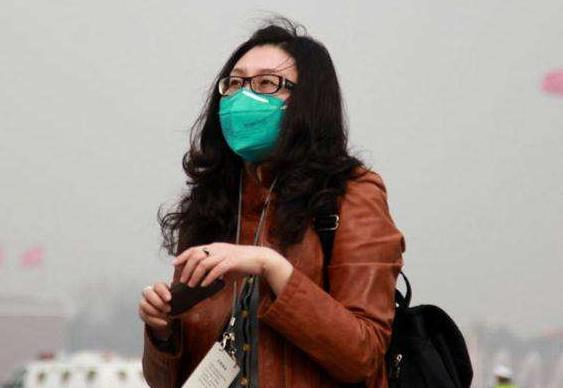OK: (218, 60, 291, 157)
